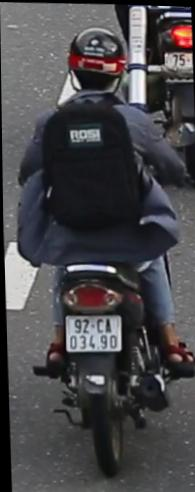LP: (61, 308, 124, 356)
helmet: (63, 21, 127, 103)
